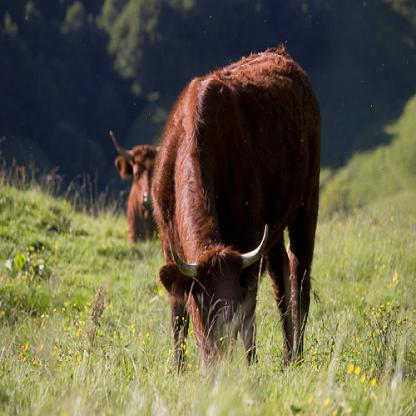cow: (155, 50, 320, 367), (108, 129, 159, 241)
